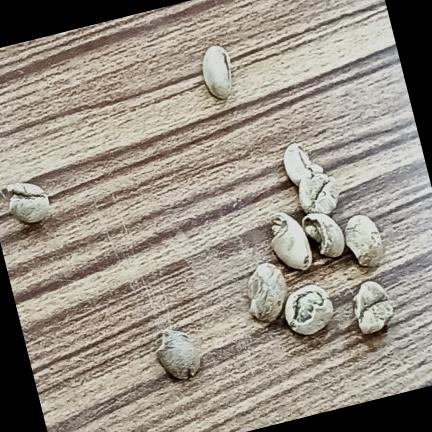cut: (285, 284, 333, 334), (271, 211, 311, 270), (247, 262, 287, 321), (156, 328, 200, 379), (353, 280, 393, 333), (344, 214, 383, 266), (302, 212, 344, 257), (283, 142, 323, 186), (6, 182, 49, 222), (299, 173, 339, 214), (202, 45, 231, 99)
